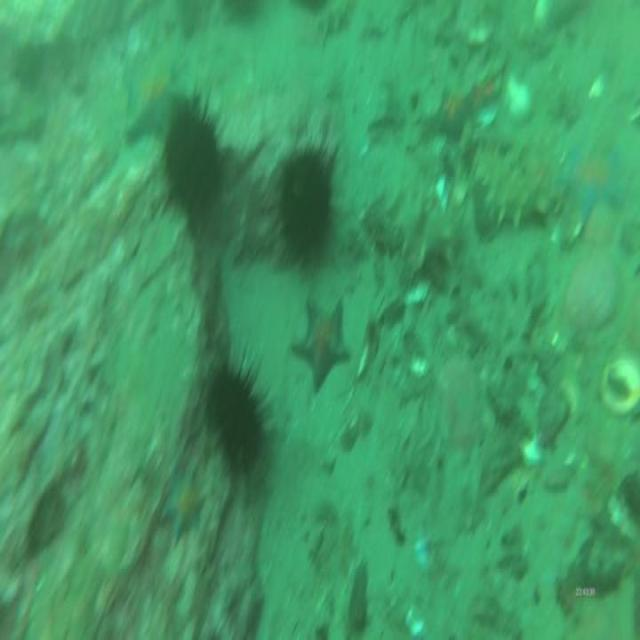echinus: (205, 345, 273, 493), (158, 96, 222, 231), (274, 140, 337, 266)
holothurian: (377, 176, 466, 276), (473, 144, 556, 232)
starfish: (117, 44, 192, 150), (552, 137, 629, 230), (292, 296, 354, 398), (422, 79, 484, 147), (157, 466, 207, 550)
